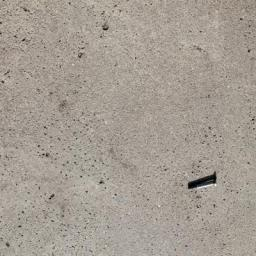FOD: (184, 172, 223, 193)
